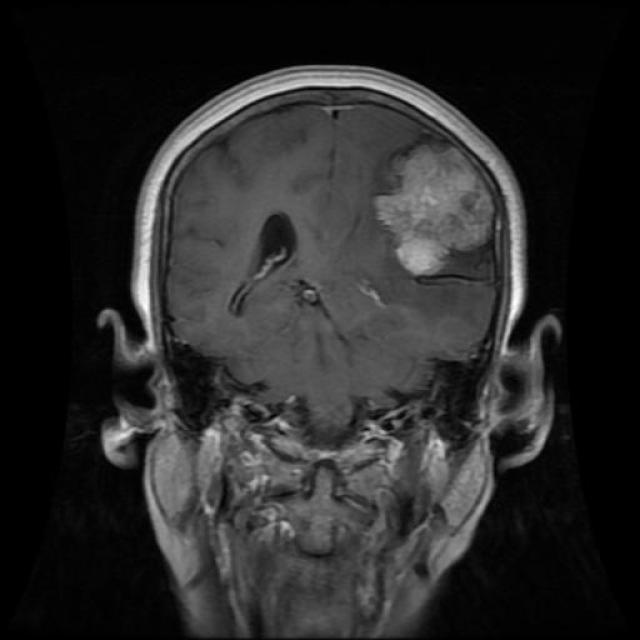meningioma: (376, 142, 494, 276)
